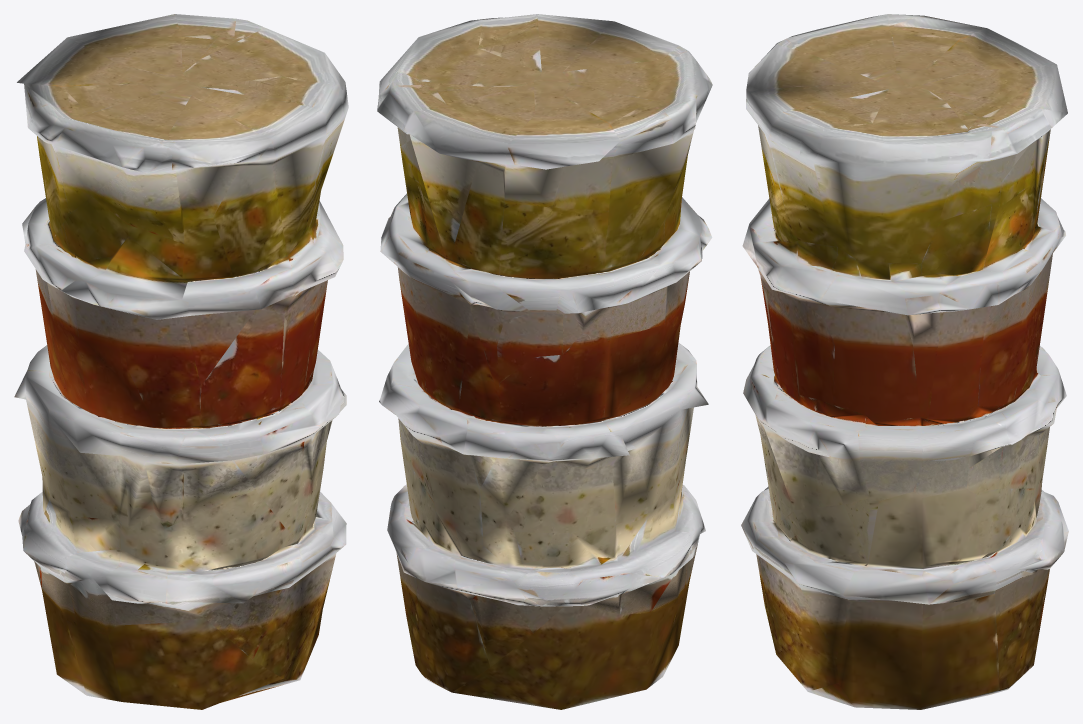
The model's file is desktop.glb.
3 renders of one model, left to right at view 1: azimuth 30°, elevation 25°; view 2: azimuth 150°, elevation 25°; view 3: azimuth 270°, elevation 25°, orthographic.
Visible parts, largest first — view 1: d-takeoutstack; view 2: d-takeoutstack; view 3: d-takeoutstack.
Boxes of the visible parts, bbox=[...] form: d-takeoutstack: bbox=[14, 14, 348, 709]; d-takeoutstack: bbox=[377, 14, 712, 709]; d-takeoutstack: bbox=[741, 14, 1068, 709].
Size of the model in its own units: 0.128 by 0.2493 by 0.1277.
Materials: 1 (1 with a texture image).
